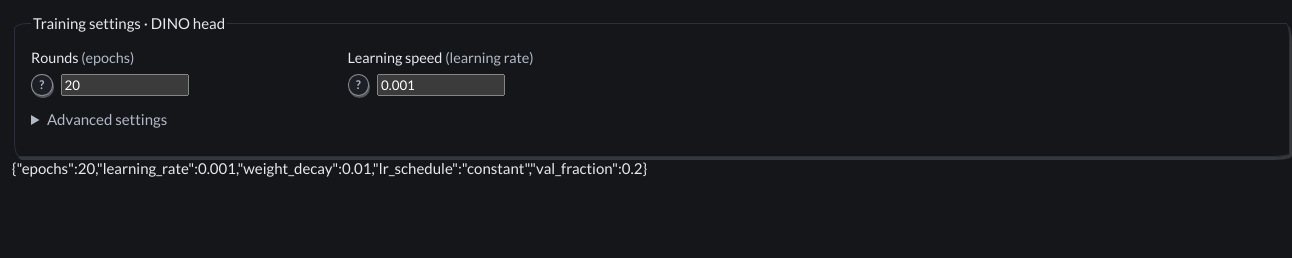
Test: ParameterForm (doc 100) › says what is out of range at the field and names it for the Start button
Replace the text in the field labelled "Rounds (epochs)" with "0" at (125, 85), box x1=61 y1=74 x2=189 y2=96
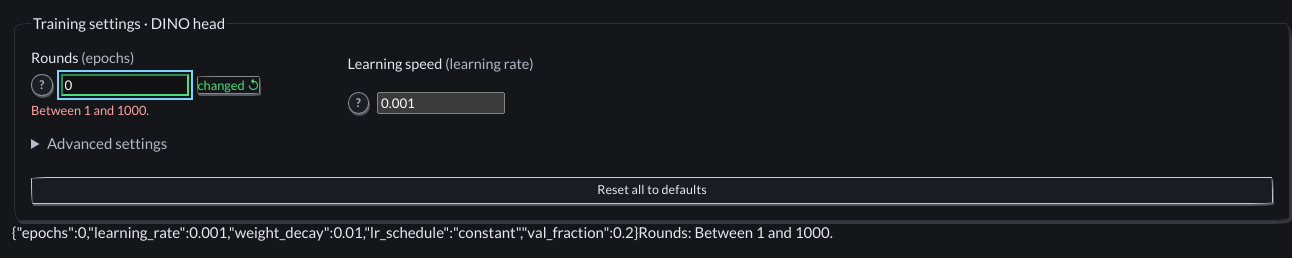
Result: the message reads "Between 1 and 1000." at x1=31 y1=102 x2=149 y2=118
Result: the text with test id "blocked" reads "Rounds: Between 1 and 1000." at x1=638 y1=223 x2=833 y2=241
